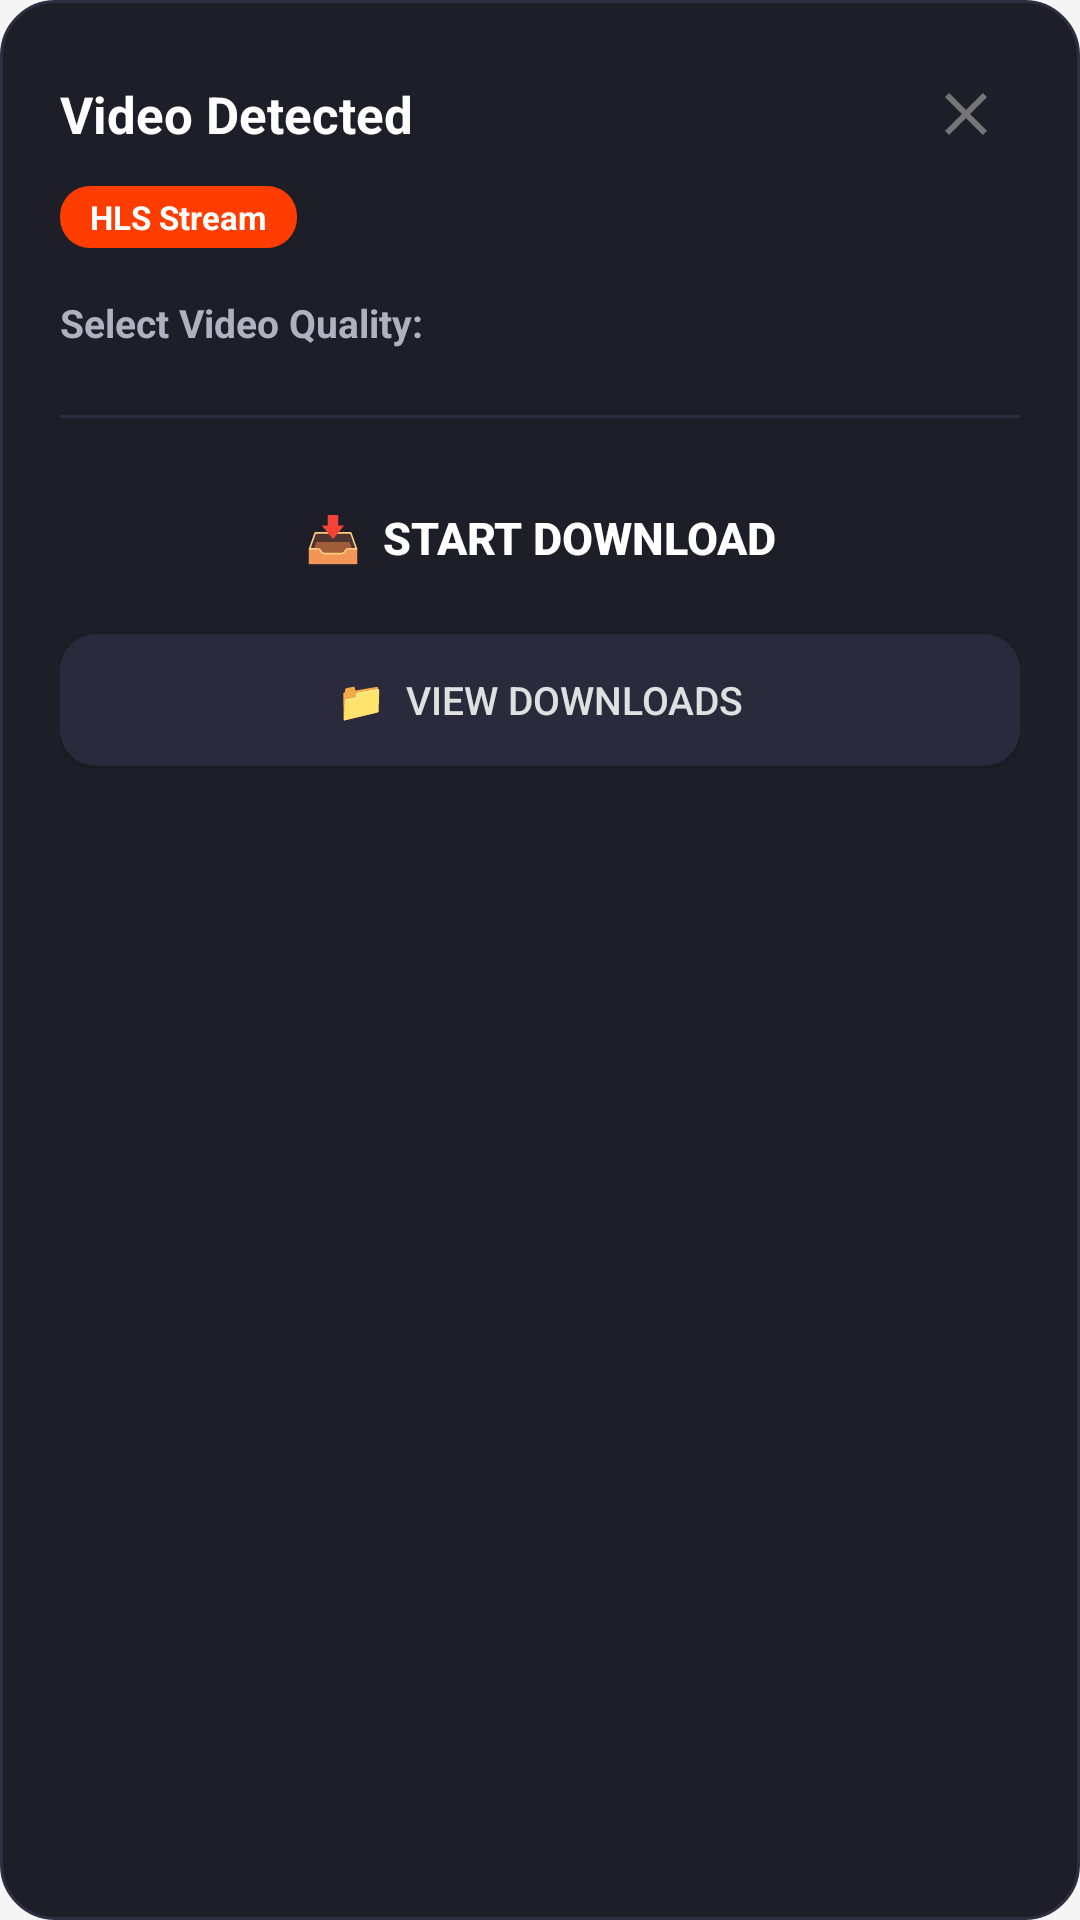

Named icons in this screenshot (1080w x 1920h) and their centers, [x,y]:
Close: [966,114]
